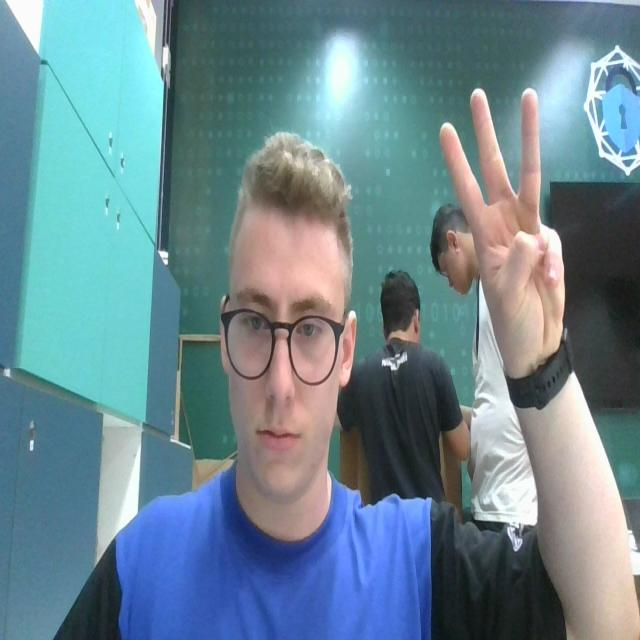W: (438, 76, 570, 366)
